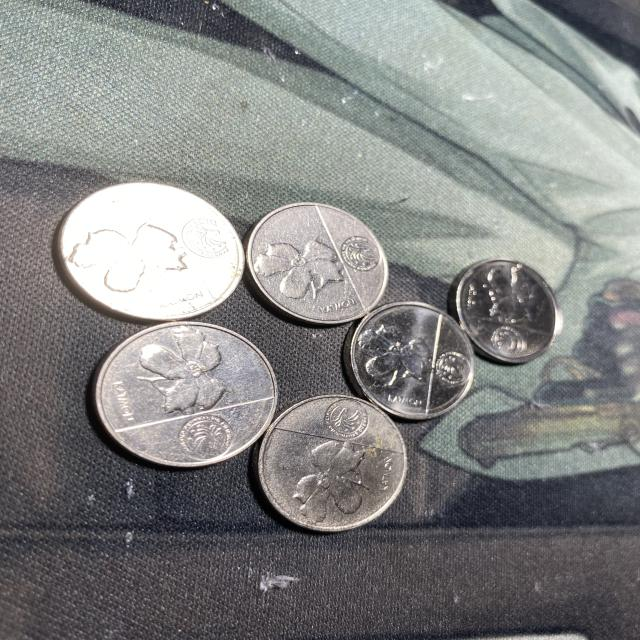25Cent_New_Back: (57, 180, 252, 317), (99, 327, 269, 459), (261, 396, 401, 525), (248, 202, 381, 318), (352, 305, 474, 420), (455, 256, 559, 367)
